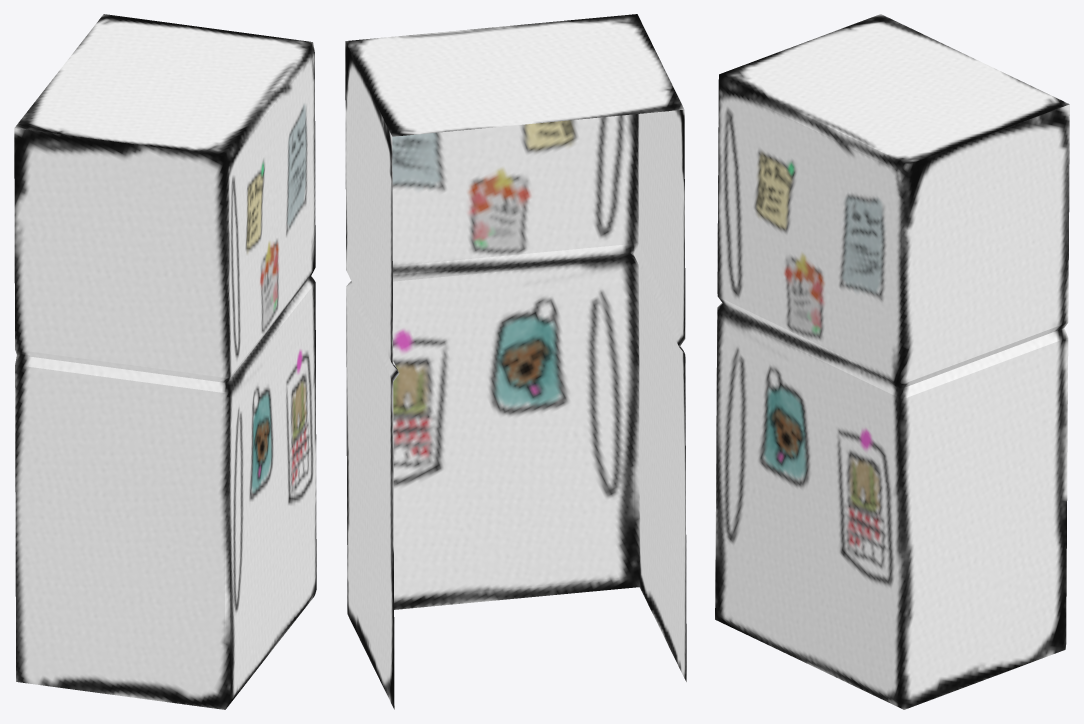
The model's file is furniture_fridge.glb.
The picture shows the model from 3 angles, left to right: view 1: azimuth 30°, elevation 25°; view 2: azimuth 150°, elevation 25°; view 3: azimuth 270°, elevation 25°; orthographic projection. The views are drawn at different scales.
Visible parts, largest first — view 1: fridge; view 2: fridge; view 3: fridge.
Boxes of the visible parts, box(x1,y1,x2,y2) form: fridge: box(14, 14, 316, 709); fridge: box(345, 14, 686, 709); fridge: box(715, 14, 1069, 709).
Bounding box in the file's own units: 0.0908 × 0.1539 × 0.0904.
1 material, 1 textured.
